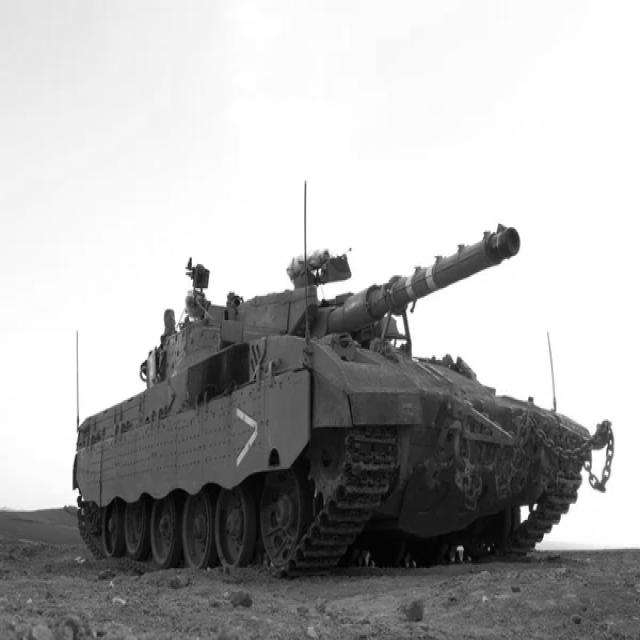Tank: (68, 216, 616, 577)
